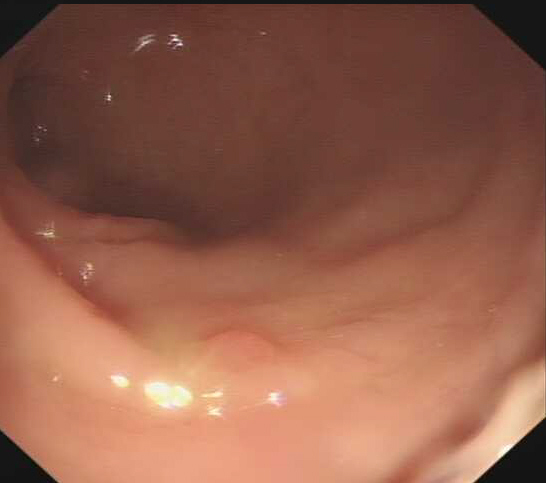others: (196, 329, 277, 370)
